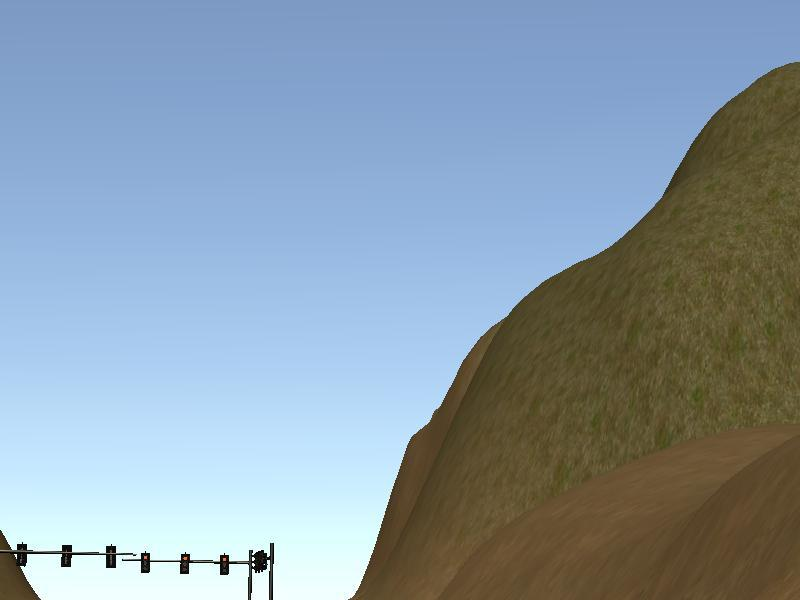Red: (140, 551, 150, 573), (219, 554, 229, 576), (179, 552, 189, 574)
